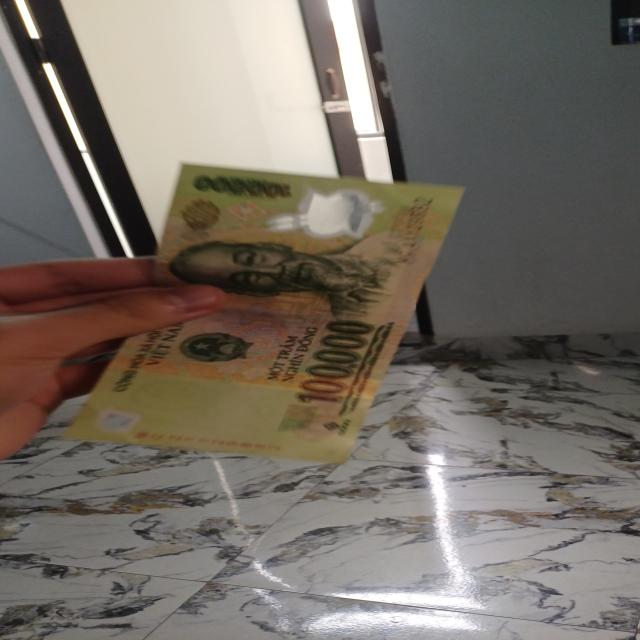100 000 VND: (59, 158, 471, 468)
